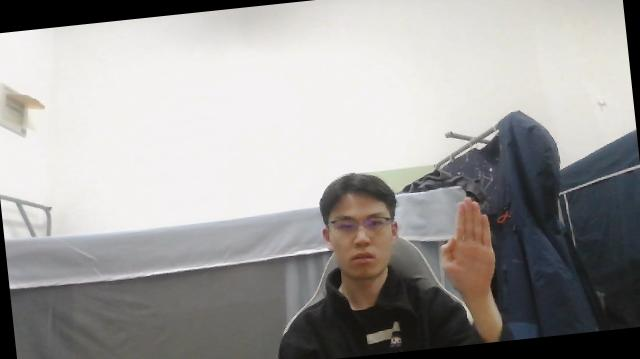five: (432, 194, 500, 296)
